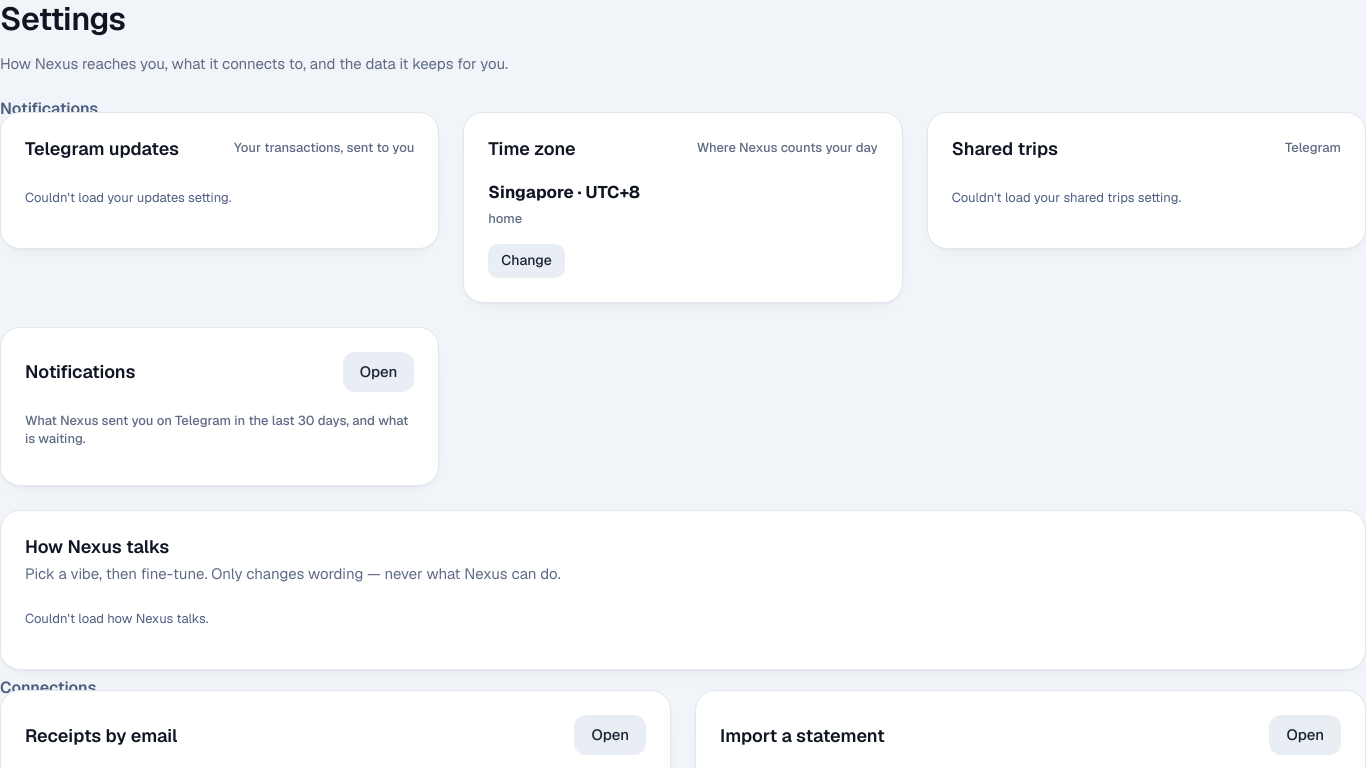
Settings › sends a picked zone as a manual choice
Click the button "Change".
click(527, 261)  # box [488,244,565,278]
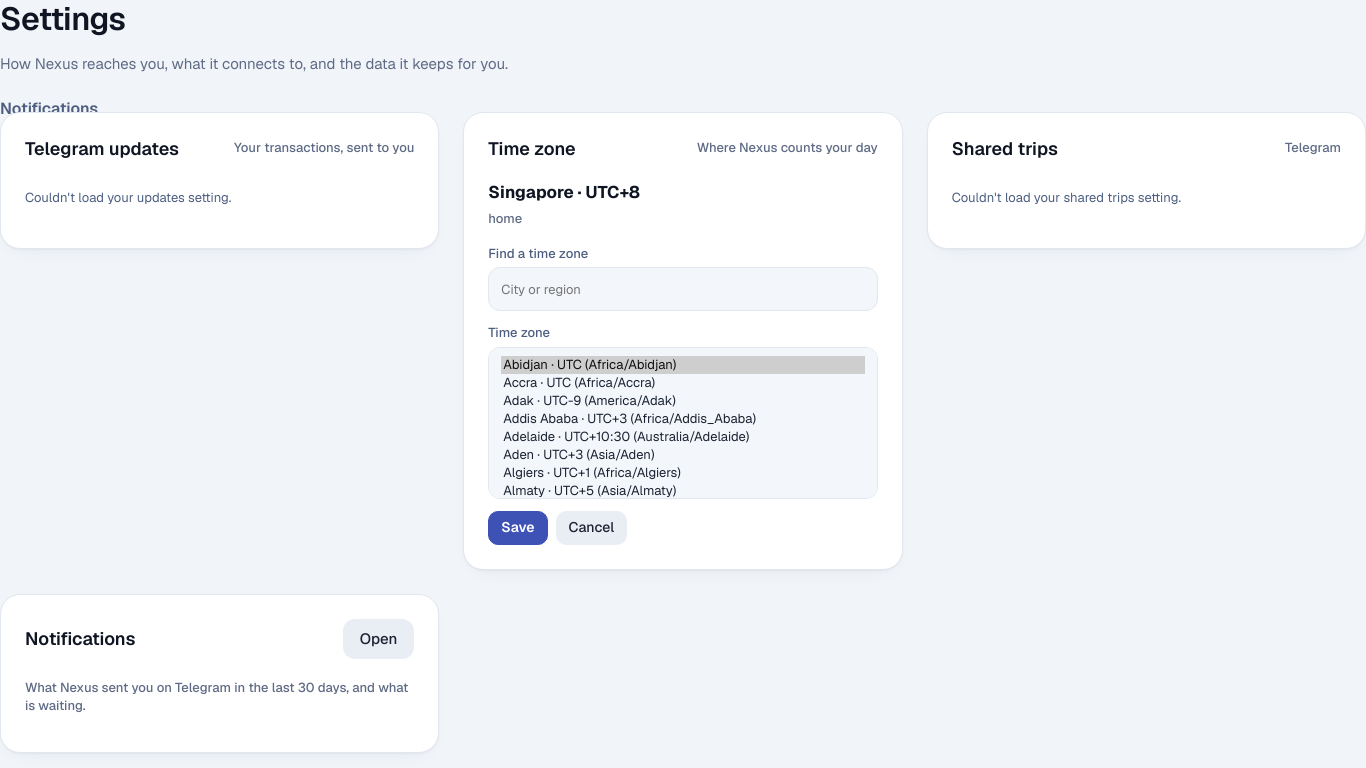
Type "tokyo" into the search field labelled "Find a time zone".
click(683, 289); type("tokyo")  # box [488,267,878,311]
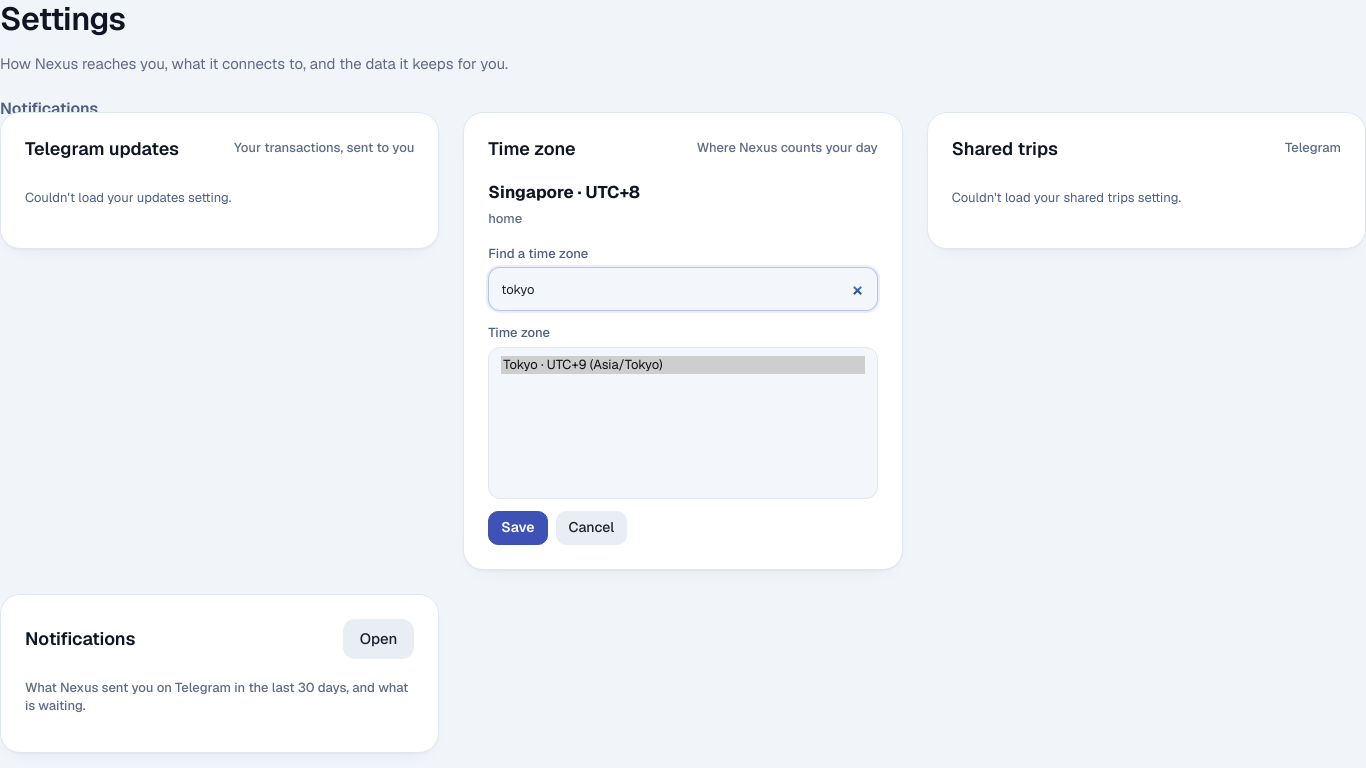
Select "Tokyo · UTC+9 (Asia/Tokyo)" in the dropdown labelled "Time zone" at (683, 423), box [488,347,878,499]
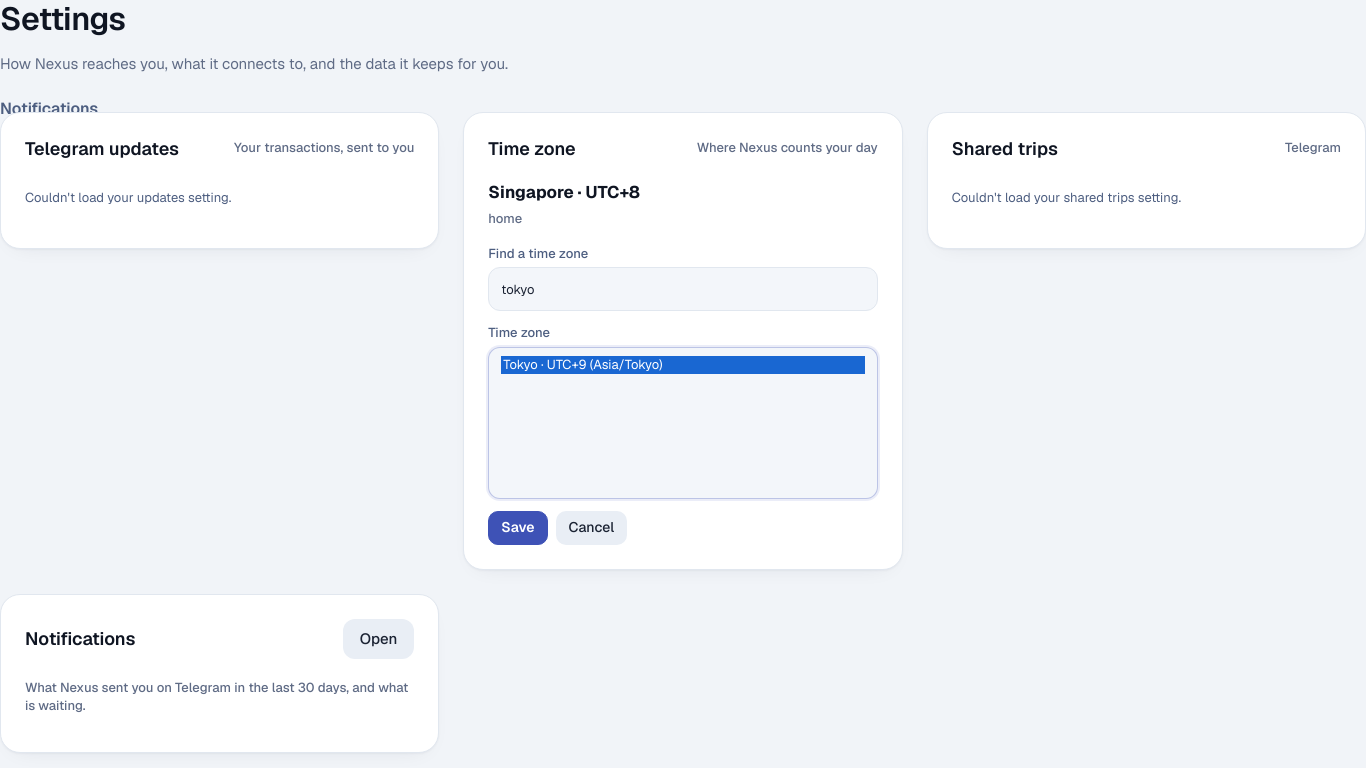
Click the button "Save".
click(518, 528)  # box [488,511,548,545]
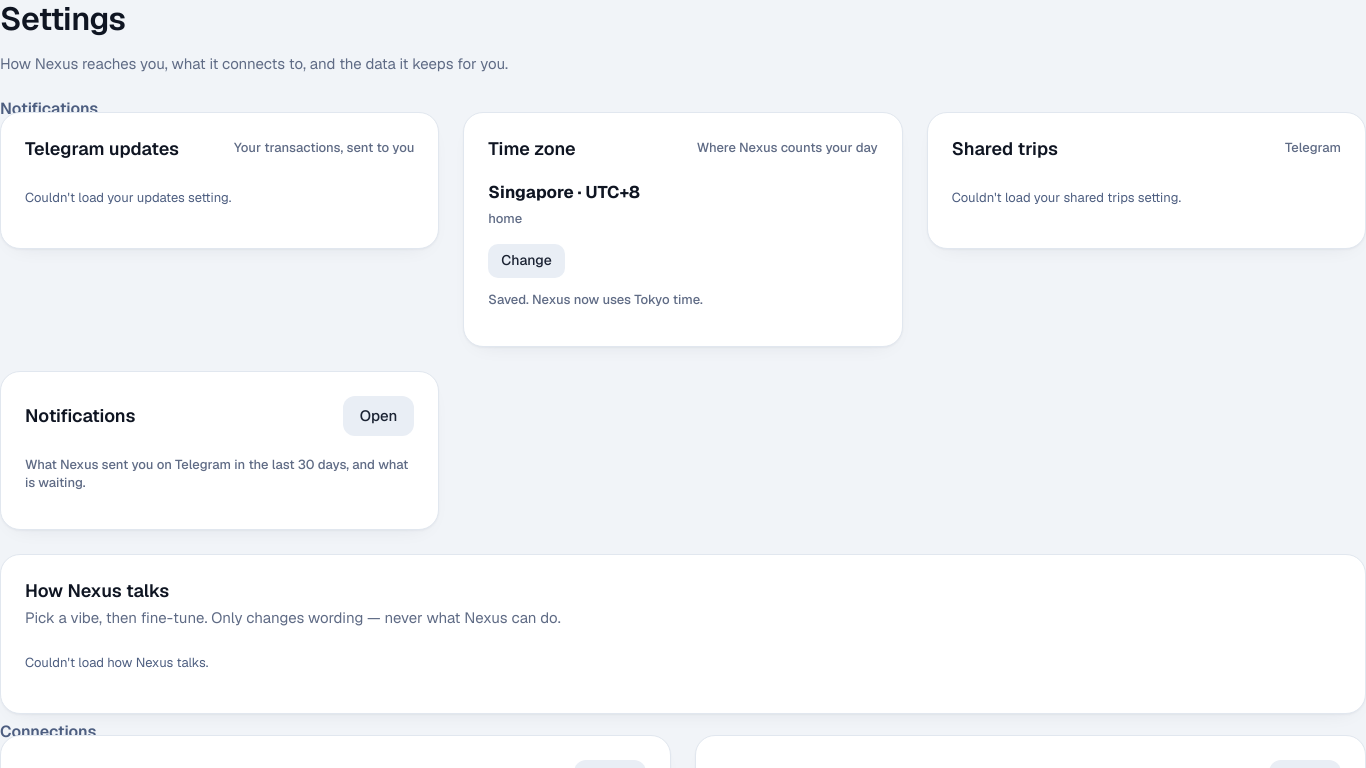
Check: the message reads "Saved. Nexus now uses Tokyo time.", box [488,291,703,308]
